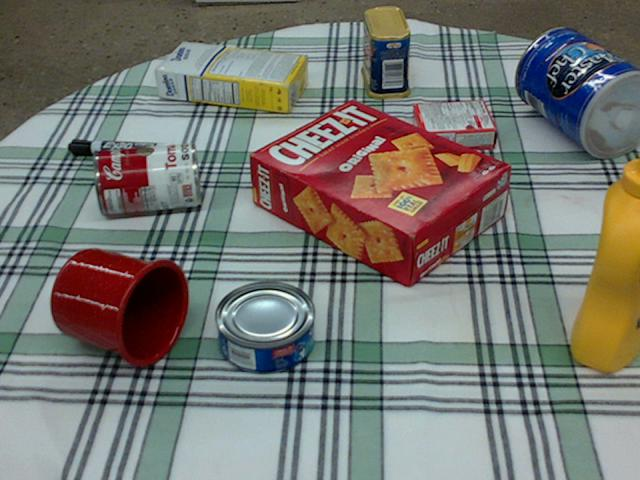cracker_box: (251, 98, 510, 284)
gelatin_box: (410, 96, 496, 153)
large_marker: (67, 140, 172, 158)
master_chef_can: (513, 28, 639, 157)
mug: (49, 248, 188, 366)
mustard_bottle: (570, 153, 639, 369)
potted_meat_can: (359, 5, 410, 98)
sugar_box: (155, 42, 308, 111)
tomato_soup_can: (92, 141, 201, 214)
tuna_fish_can: (213, 281, 314, 374)
